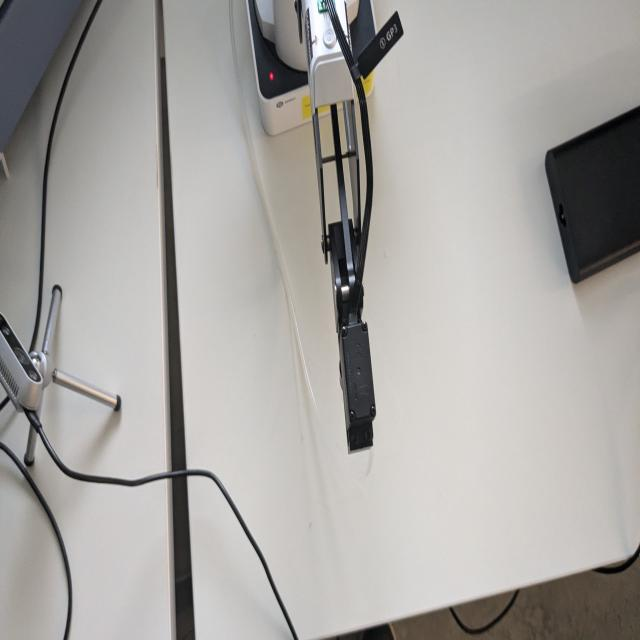Robot-end-effector-HF8z: (334, 316, 380, 458)
